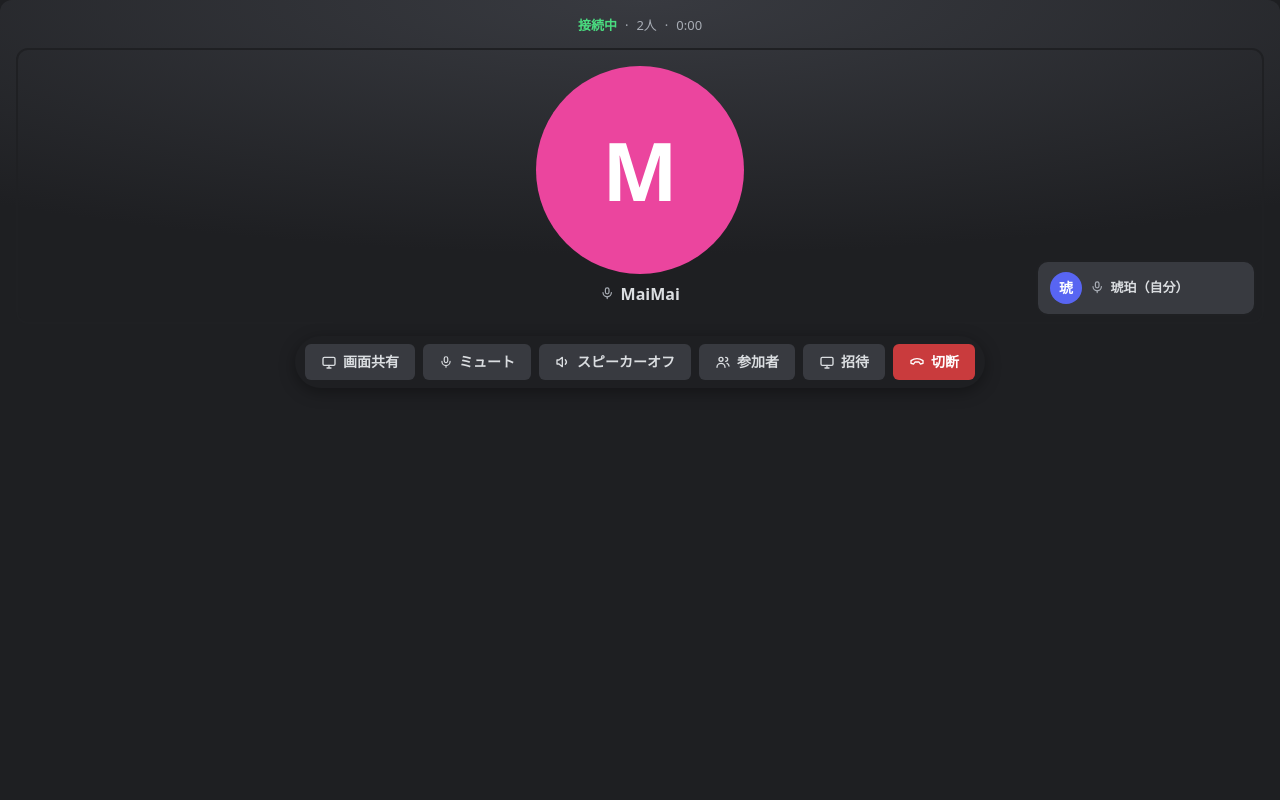
Scenario: 終了時のリセットと台本の発話 › 通話が終わると共有・参加者一覧・発話を初期化する
Click the button "画面共有" at (360, 362), box [305,344,415,380]
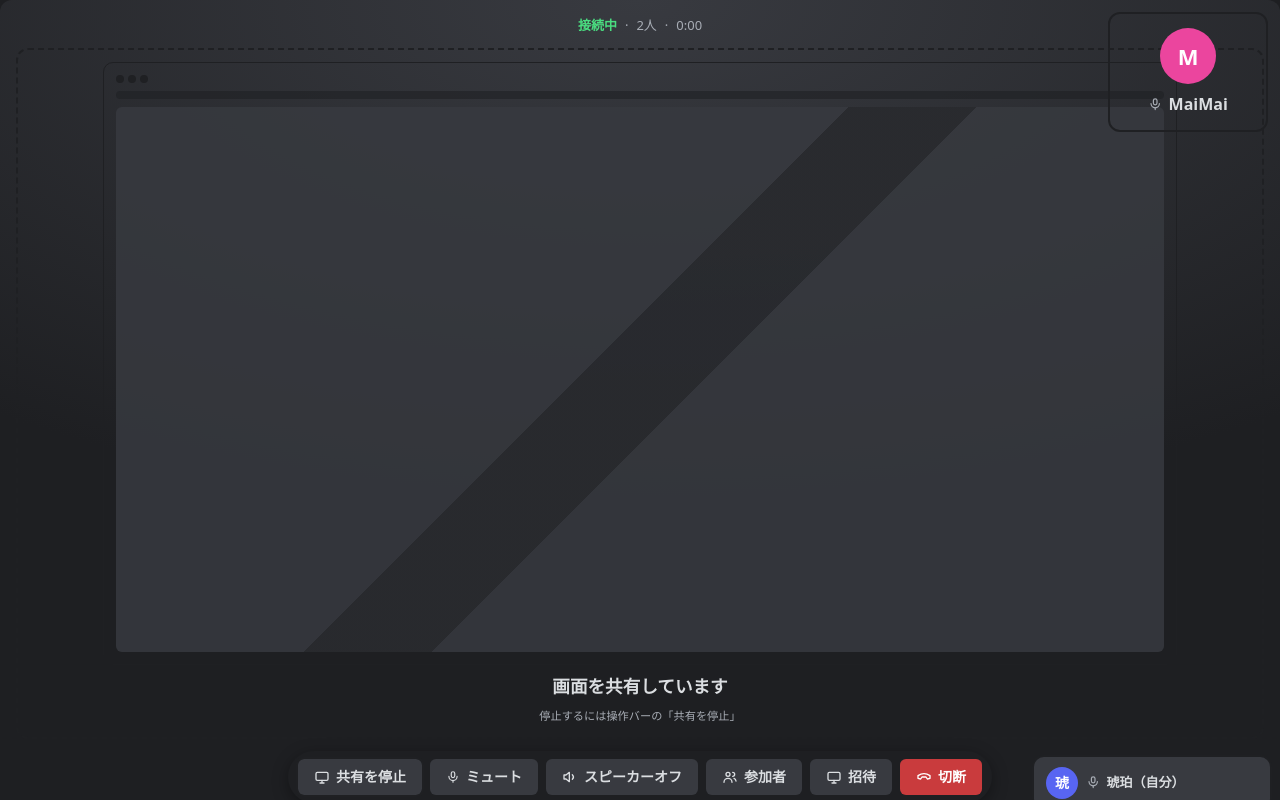
Click the button with aria-label "参加者一覧" at (754, 777), box [706,759,802,795]
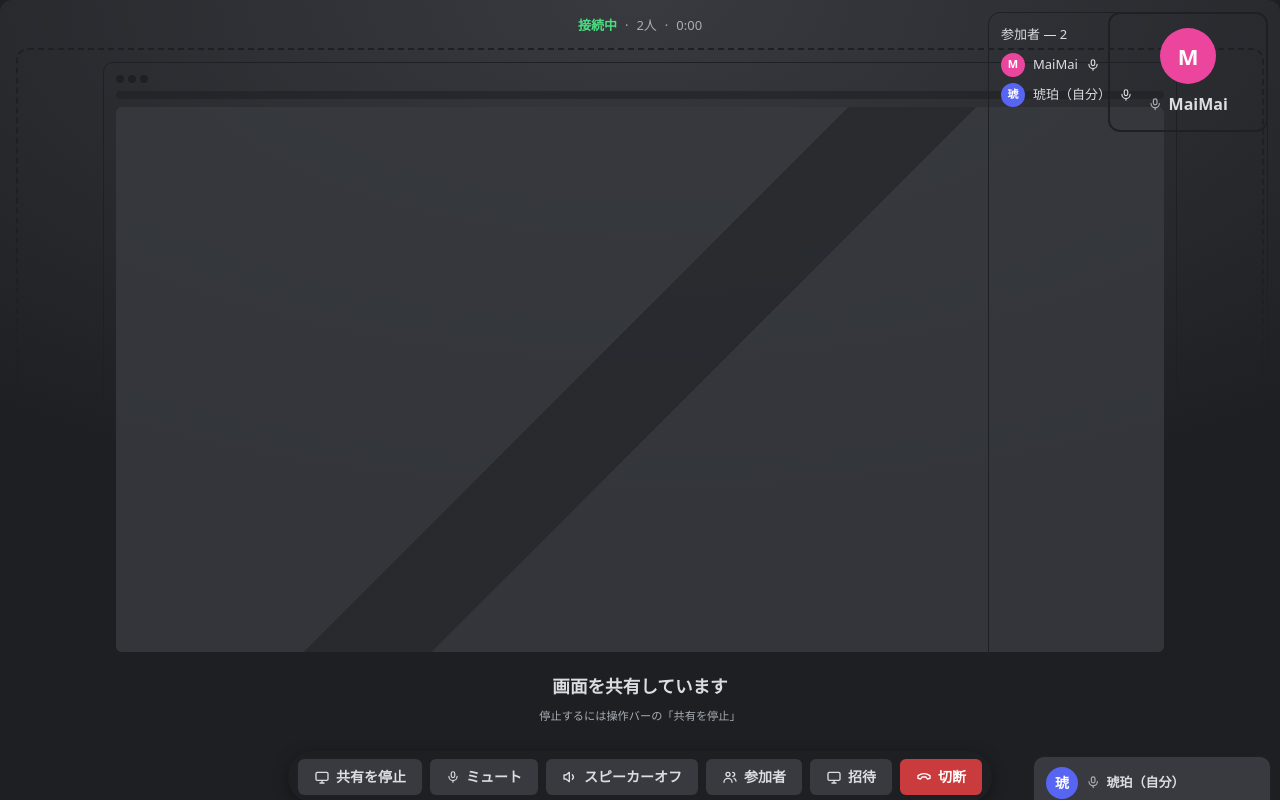
Check: the message "画面を共有しています 停止するには操作バーの「共有を停止」" is shown
Check: the element named "参加者一覧" is shown, box [988,12,1268,731]
